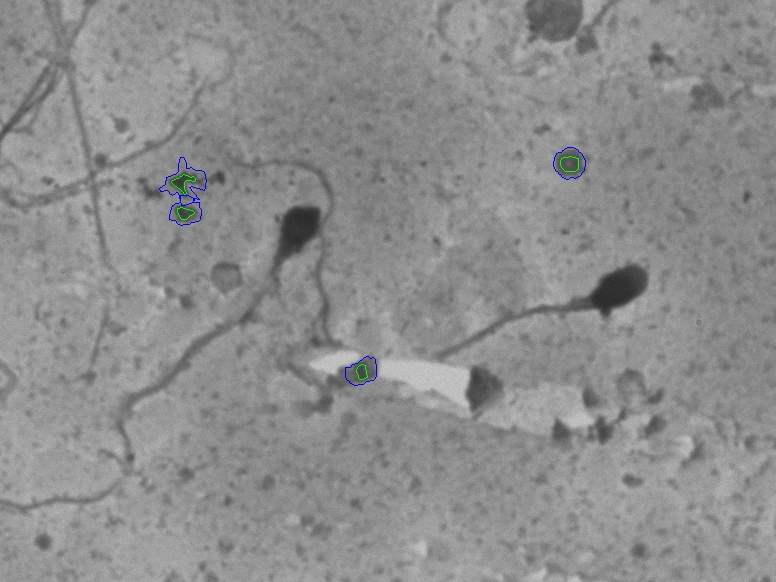Abnormal: (58, 184, 330, 520), (431, 187, 662, 361)
